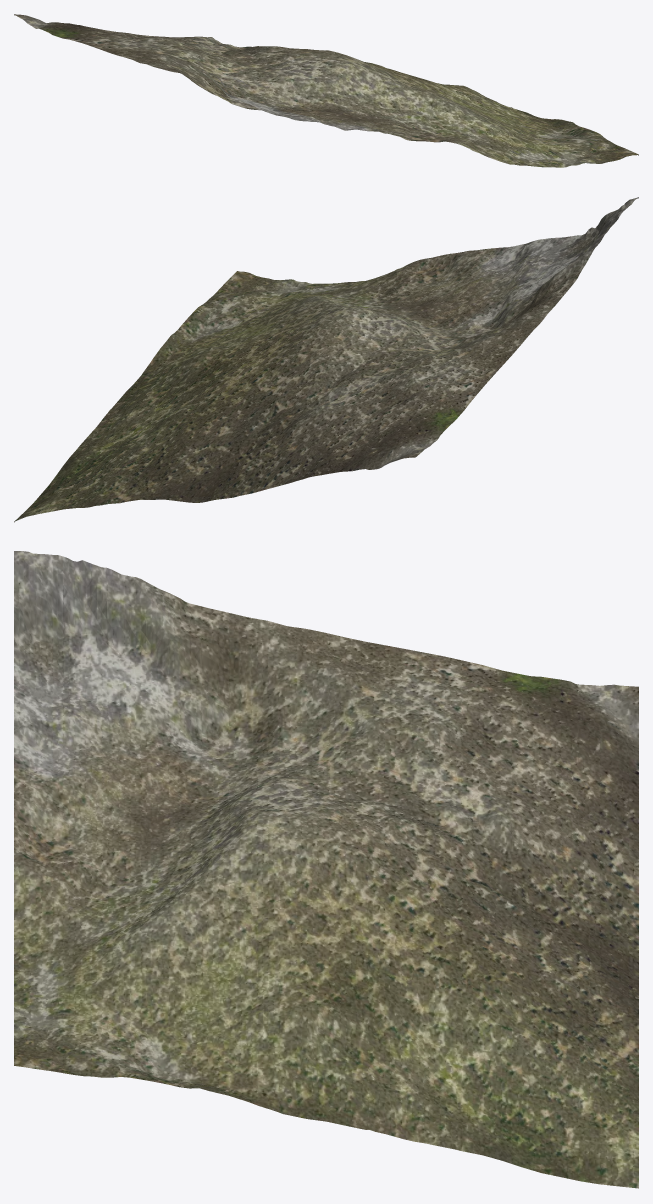
3 renders of one model, top to bottom at view 1: azimuth 30°, elevation 25°; view 2: azimuth 150°, elevation 25°; view 3: azimuth 270°, elevation 25°, orthographic. The views are drawn at different scales.
Size of the model in its own units: 1000 by 619 by 963.
Materials: 1 (1 with a texture image).
